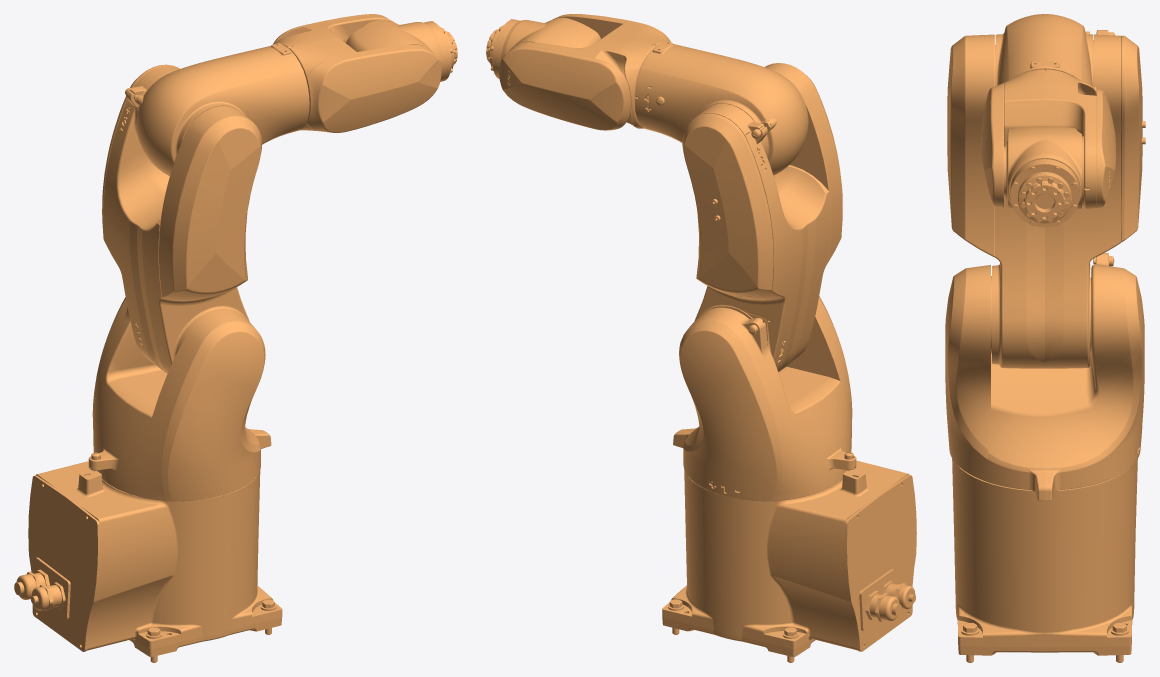
File: kuka.fbx
3 views of the same model, side by side, from view 1: azimuth 30°, elevation 25°; view 2: azimuth 150°, elevation 25°; view 3: azimuth 270°, elevation 25° (orthographic). The views are drawn at different scales.
Parts seen in each view (by area): view 1: armMain, armAxis2, armAxis1, armAxis3, armAxis4, armAxis5; view 2: armMain, armAxis2, armAxis1, armAxis4, armAxis3, armAxis5; view 3: armAxis1, armAxis2, armMain, armAxis4, armAxis3, armAxis5, armAxis6.
Boxes of the visible parts, x1,y1,x2,y2 form: armMain: (14, 461, 282, 662); armAxis2: (102, 64, 261, 373); armAxis1: (88, 297, 271, 501); armAxis3: (135, 43, 309, 176); armAxis4: (273, 14, 441, 132); armAxis5: (346, 19, 452, 81); armMain: (662, 460, 916, 662); armAxis2: (682, 63, 842, 371); armAxis1: (673, 296, 856, 501); armAxis4: (499, 14, 670, 130); armAxis3: (635, 41, 808, 175); armAxis5: (490, 17, 600, 78); armAxis1: (945, 253, 1144, 500); armAxis2: (947, 30, 1145, 368); armMain: (952, 458, 1137, 662); armAxis4: (981, 69, 1115, 209); armAxis3: (995, 14, 1096, 92); armAxis5: (1004, 126, 1083, 227); armAxis6: (1018, 172, 1071, 223).
Size of the model in its own units: 422 by 532 by 155.
